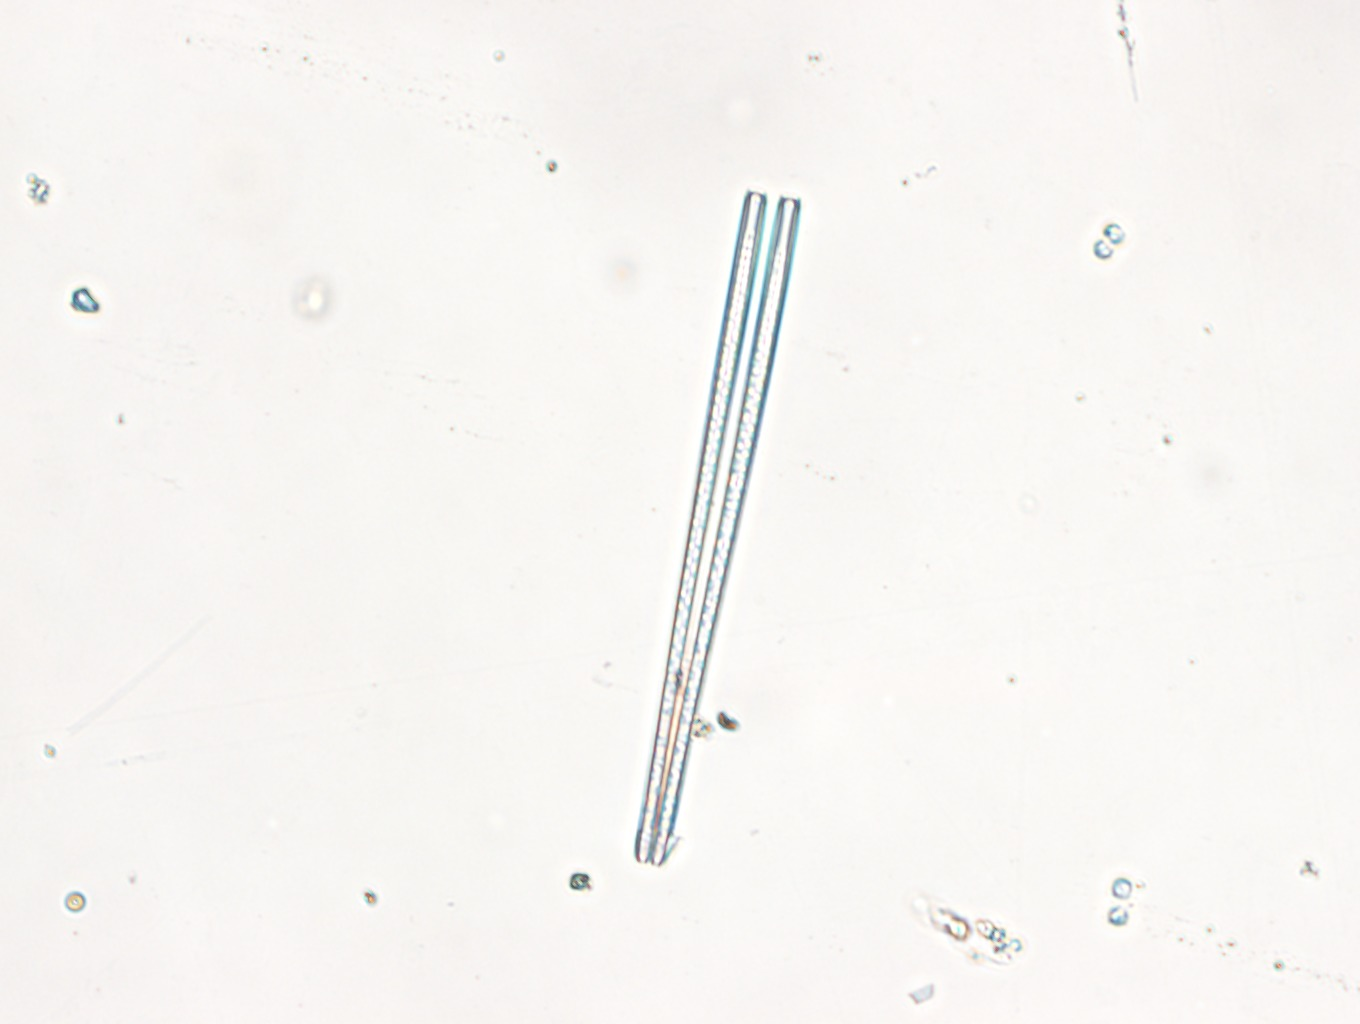thalassionema frauenfeldii: (633, 190, 800, 868)
